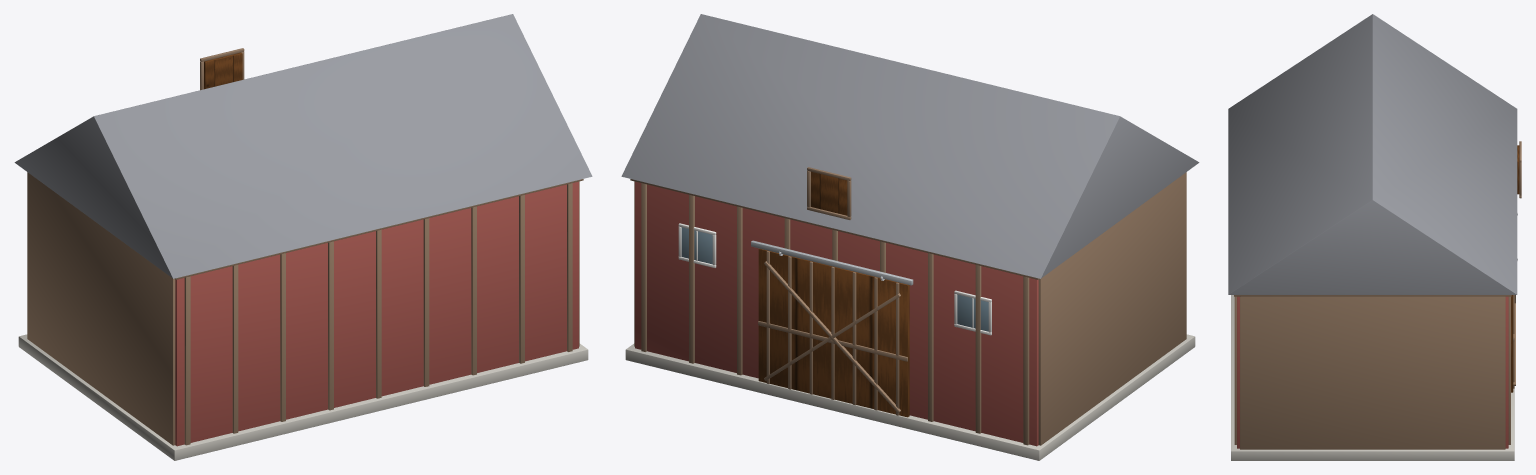
File: th38_scheune.glb
The picture shows the model from 3 angles, left to right: view 1: azimuth 30°, elevation 25°; view 2: azimuth 150°, elevation 25°; view 3: azimuth 270°, elevation 25°; orthographic projection. The views are drawn at different scales.
Parts seen in each view (by area): view 1: Dach, Cube.001, Cube.020, Cube, Cube.002, Cube.004, Cube.012, Cube.047, Cube.008, Cube.010, Cube.014, Cube.006 (+3 smaller); view 2: Dach, Cube.001, Cube.020, Cube.023, Cube, Cube.047, Cube.003, Cube.034, Cube.005, Cube.015, Cube.007, Cube.019 (+8 smaller); view 3: Dach, Cube.021, Cube, Cube.001, Cube.022, Cube.018, Cube.019.
Part boxes in pixels (x1,y1,x2,y2): Dach: (14,14,592,278); Cube.001: (175,181,578,446); Cube.020: (27,172,175,445); Cube: (18,334,588,460); Cube.002: (184,276,190,445); Cube.004: (232,265,238,433); Cube.012: (423,218,429,386); Cube.047: (204,52,242,89); Cube.008: (328,241,333,410); Cube.010: (376,229,381,398); Cube.014: (471,206,476,375); Cube.006: (280,253,285,421); Dach: (621,14,1199,278); Cube.001: (635,181,1038,446); Cube.020: (1038,172,1186,445); Cube.023: (758,248,909,417); Cube: (625,334,1195,460); Cube.047: (811,171,847,215); Cube.003: (1023,276,1029,445); Cube.034: (751,240,913,285); Cube.005: (975,265,981,433); Cube.015: (737,206,742,375); Cube.007: (928,253,933,421); Cube.019: (641,183,646,351); Dach: (1228,14,1517,294); Cube.021: (1240,296,1505,449); Cube: (1231,295,1514,460); Cube.001: (1237,296,1508,448); Cube.022: (1234,295,1511,296); Cube.018: (1234,296,1236,444); Cube.019: (1508,296,1510,444).
Bounding box in the file's own units: 14.6 × 9.6 × 9.73.
Materials: 9 (1 with a texture image).
